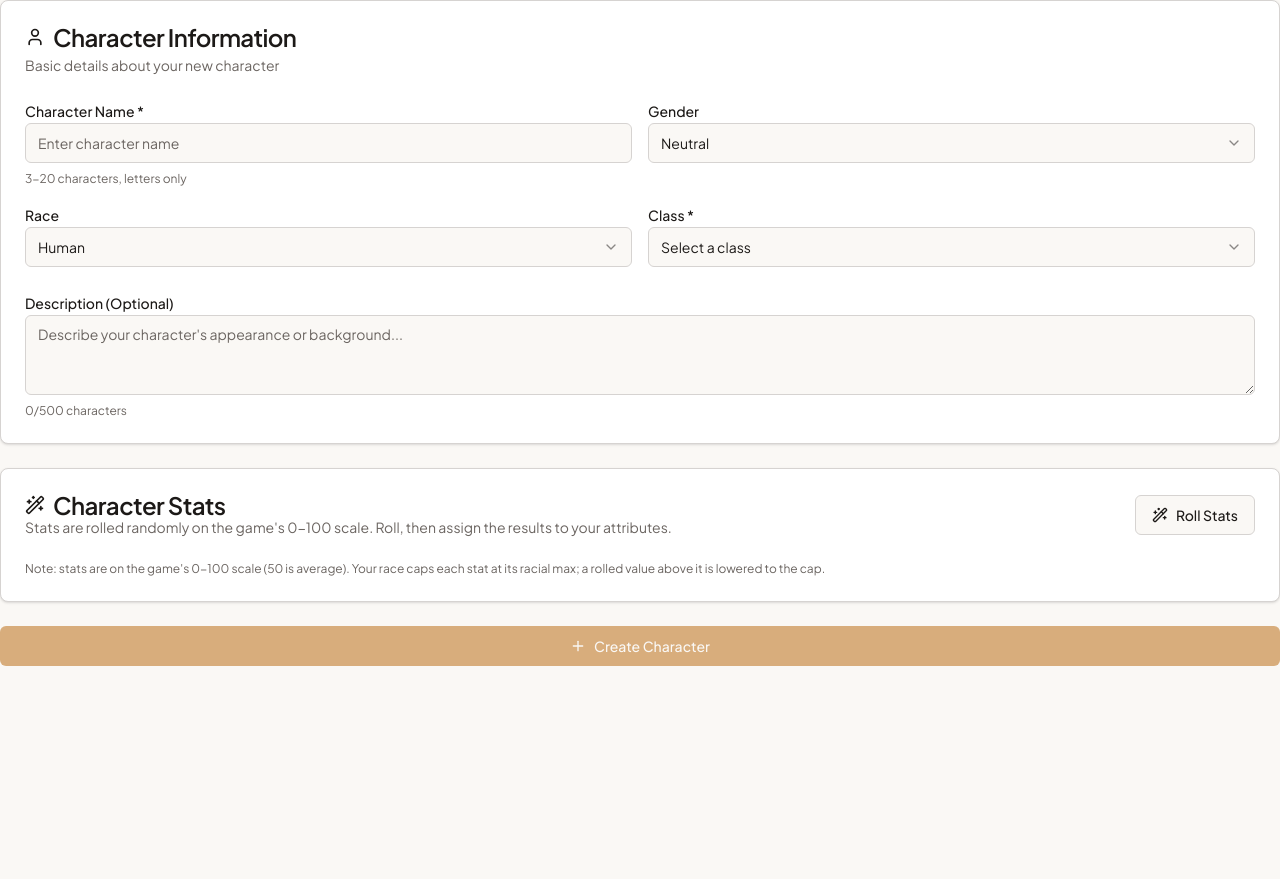
it: CharacterCreationForm › shows each racial cap, and says when a rolled value is lowered
Click the button "Roll Stats" at (1195, 515), box [1135,495,1255,535]
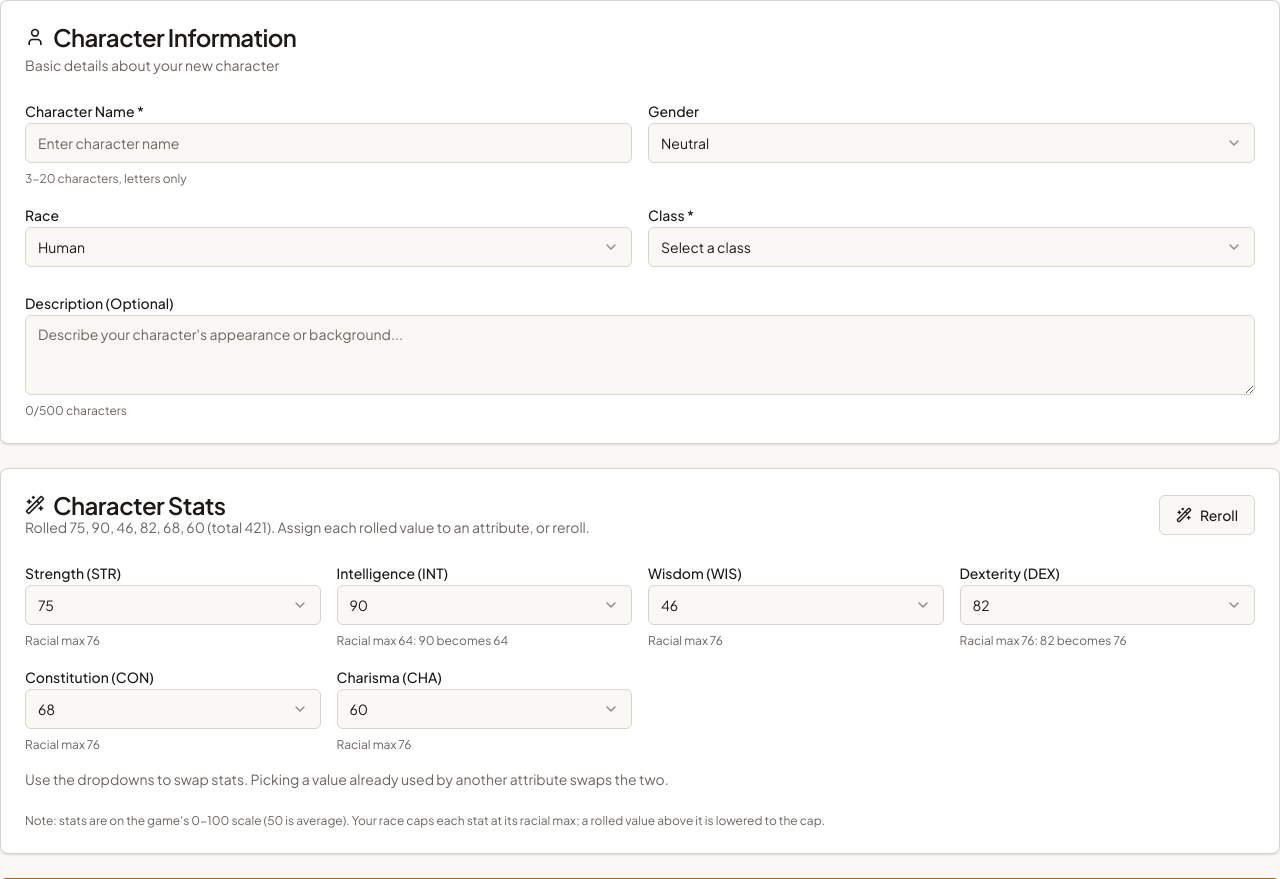
Expected: the text with test id "cap-strength" does not show "becomes", [25,633,100,648]
Result: the text with test id "cap-intelligence" reads "Racial max 64: 90 becomes 64" at [336,633,508,648]
Result: the text with test id "cap-strength" reads "Racial max 76" at [25,633,100,648]
